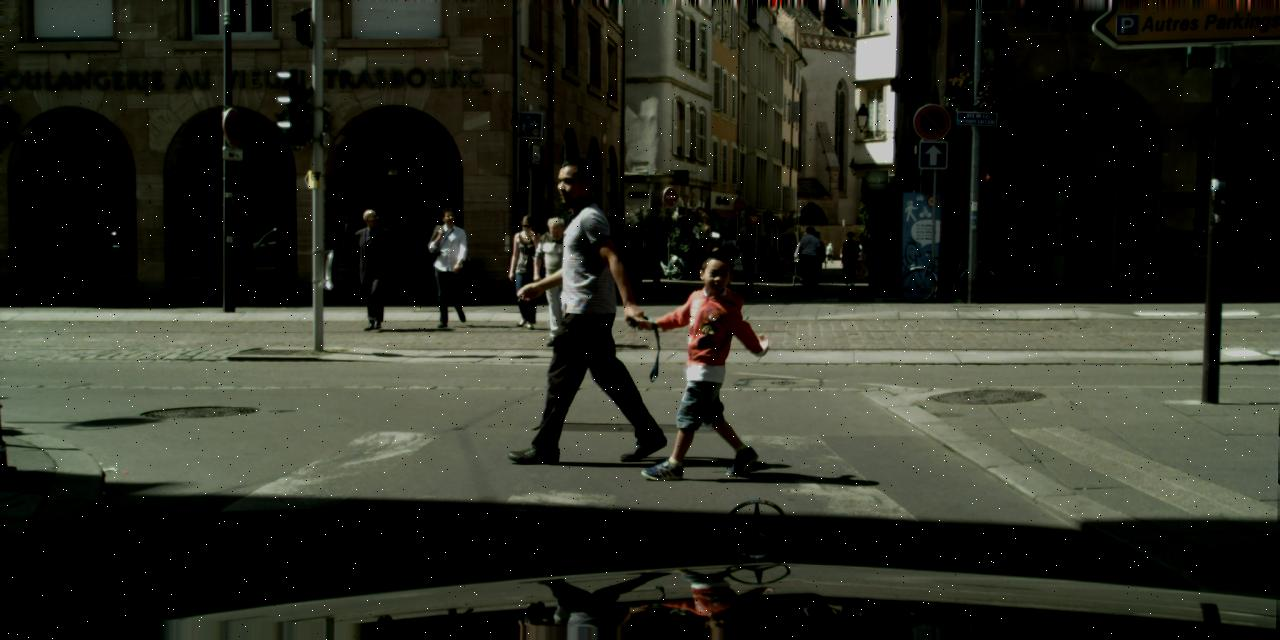ped: (526, 157, 649, 459), (668, 249, 760, 476), (531, 216, 583, 345), (345, 209, 394, 329), (427, 207, 475, 325), (504, 214, 549, 325), (795, 226, 824, 296), (838, 231, 860, 285), (805, 231, 827, 285), (737, 232, 759, 286), (793, 233, 813, 283), (718, 231, 736, 279), (753, 236, 771, 280), (839, 241, 848, 265), (825, 242, 833, 262)
